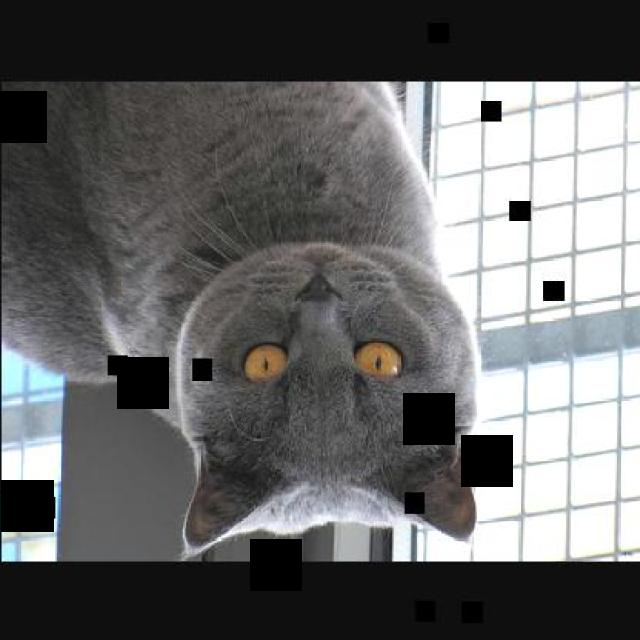unauthorized: (0, 78, 478, 558)
